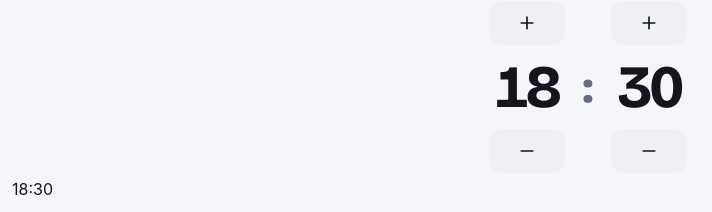
Test: ClockPicker, as a person uses it › shows the current value as a hint while the field is emptied for typing
Click the field named "Minutos": click(650, 87) [604, 51, 696, 123]
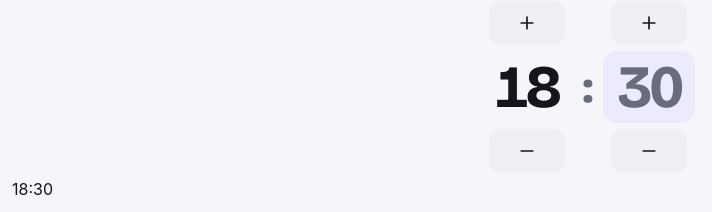
Now the field named "Minutos" is empty, box [604, 51, 696, 123]
Press Tab
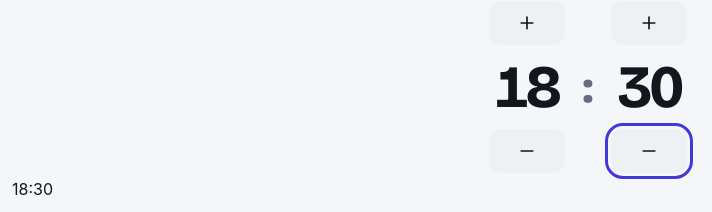
Now the field named "Minutos" holds "30", box [604, 51, 696, 123]
